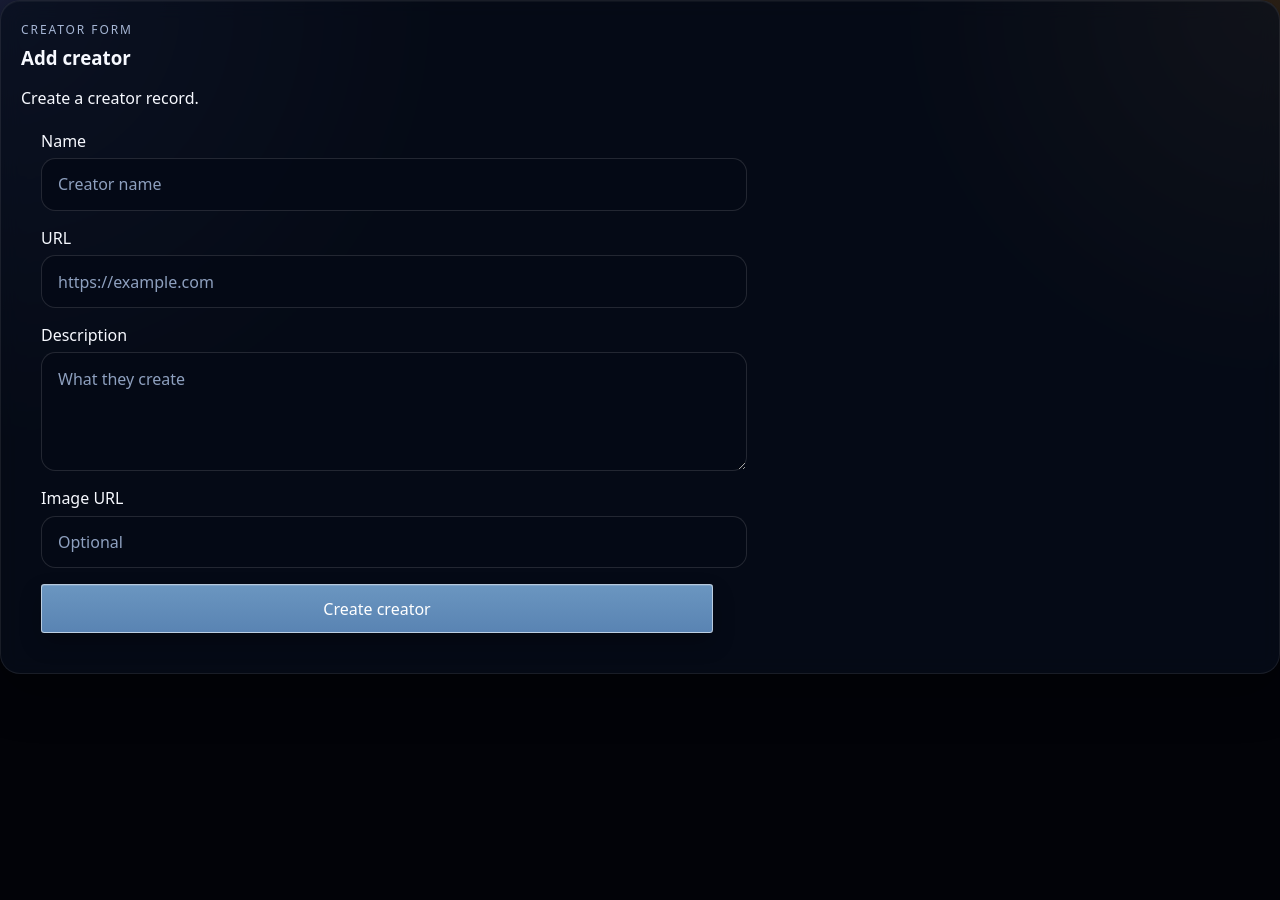
Scenario: CreatorForm › blocks submission when required fields are empty
Click the button "Create creator" at coordinates (377, 609), box [41,584,713,633]
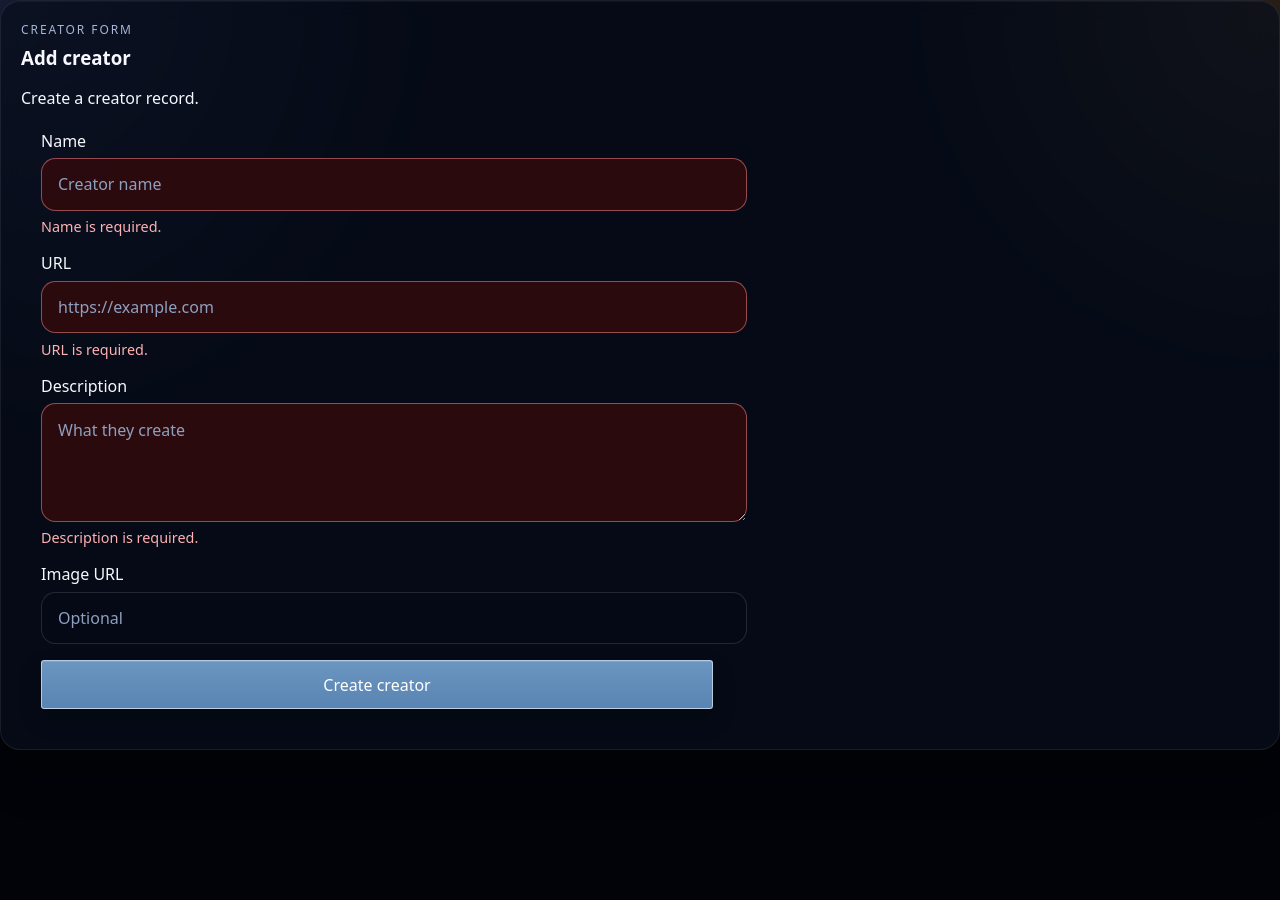
Check: the text "Name is required." is shown, box [41,217,161,236]
Check: the text "URL is required." is shown, box [41,340,148,359]
Check: the text "Description is required." is shown, box [41,528,198,547]
